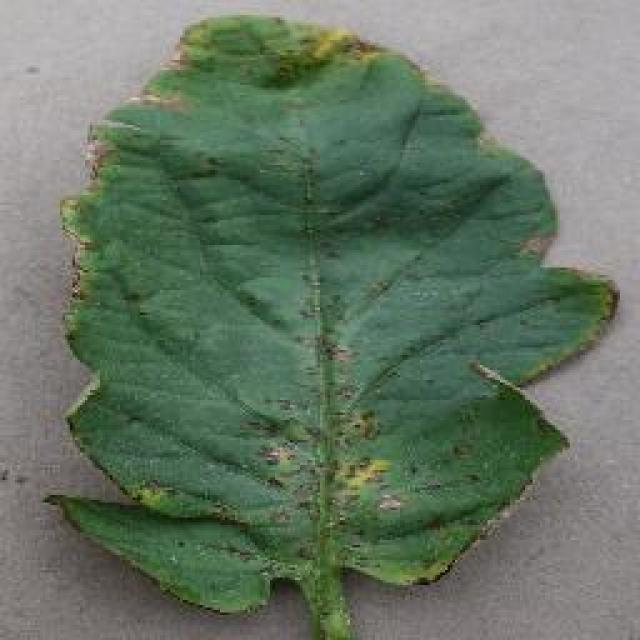bacterial spot: (49, 10, 623, 635)
